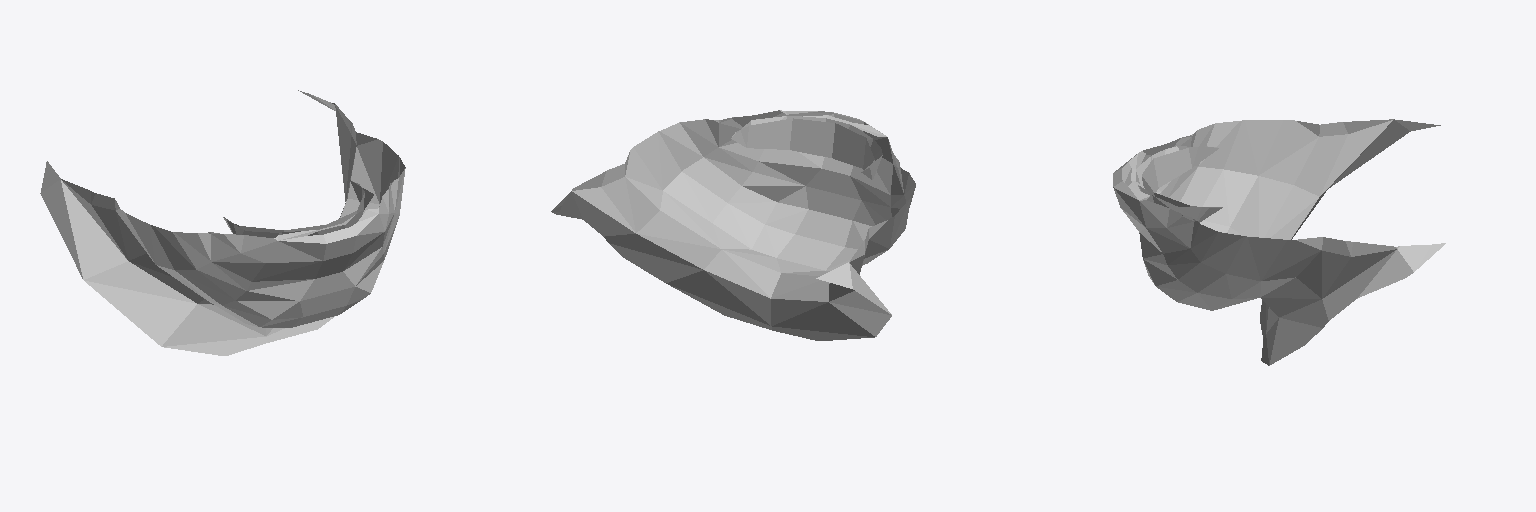
Rendered from sh_oreja_mandibula.obj.
3 renders of one model, left to right at view 1: azimuth 30°, elevation 25°; view 2: azimuth 150°, elevation 25°; view 3: azimuth 270°, elevation 25°, orthographic.
Visible parts, largest first — view 1: Shrek.001; view 2: Shrek.001; view 3: Shrek.001.
Part boxes in pixels (x1,y1,x2,y2): Shrek.001: (40, 90, 405, 355); Shrek.001: (551, 110, 915, 340); Shrek.001: (1113, 119, 1445, 365).
Size of the model in its own units: 24.81 by 13.1 by 23.9.